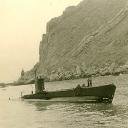submarine: (22, 79, 118, 104)
